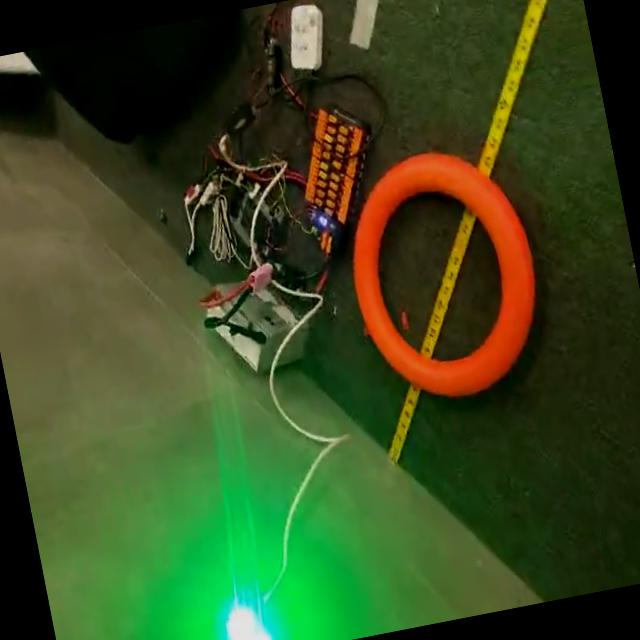note: (330, 138, 558, 414)
